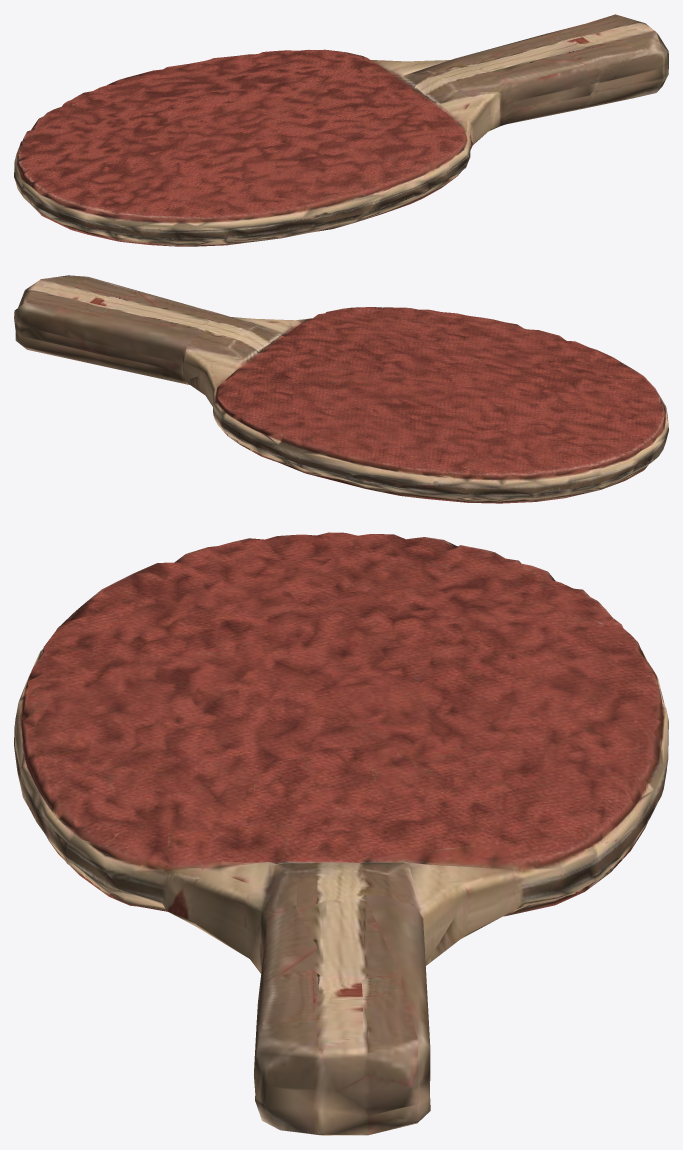
Rendered from table-tennis-paddle.glb.
3 renders of one model, top to bottom at view 1: azimuth 30°, elevation 25°; view 2: azimuth 150°, elevation 25°; view 3: azimuth 270°, elevation 25°, orthographic. The views are drawn at different scales.
Size of the model in its own units: 1.9 by 0.14 by 0.969.
Materials: 1 (1 with a texture image).
